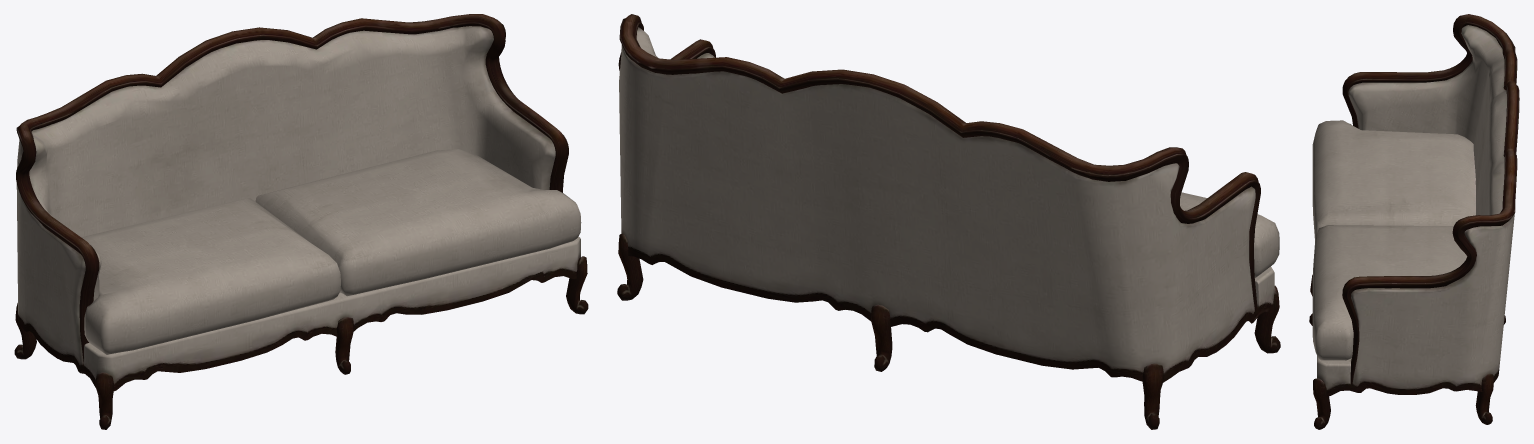
File: Sofa_01.glb
The picture shows the model from 3 angles, left to right: view 1: azimuth 30°, elevation 25°; view 2: azimuth 150°, elevation 25°; view 3: azimuth 270°, elevation 25°; orthographic projection. The views are drawn at different scales.
Visible parts, largest first — view 1: Sofa_01; view 2: Sofa_01; view 3: Sofa_01.
Part boxes in pixels (<box>): Sofa_01: <box>14,14,588,429</box>; Sofa_01: <box>617,14,1280,429</box>; Sofa_01: <box>1309,14,1519,429</box>.
Size of the model in its own units: 1.57 by 0.7965 by 0.658.
Materials: 1 (1 with a texture image).
